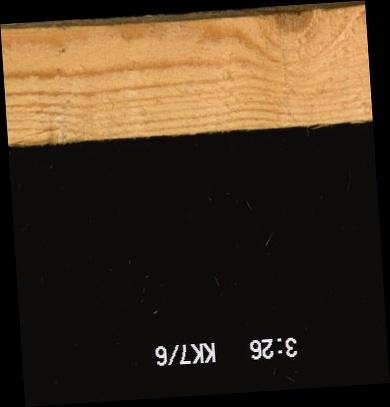edge_knot: (272, 8, 317, 46)
